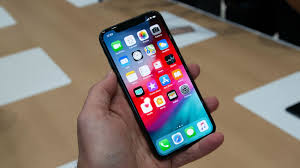iphone: (84, 11, 216, 159)
iphone10: (82, 9, 214, 157)
